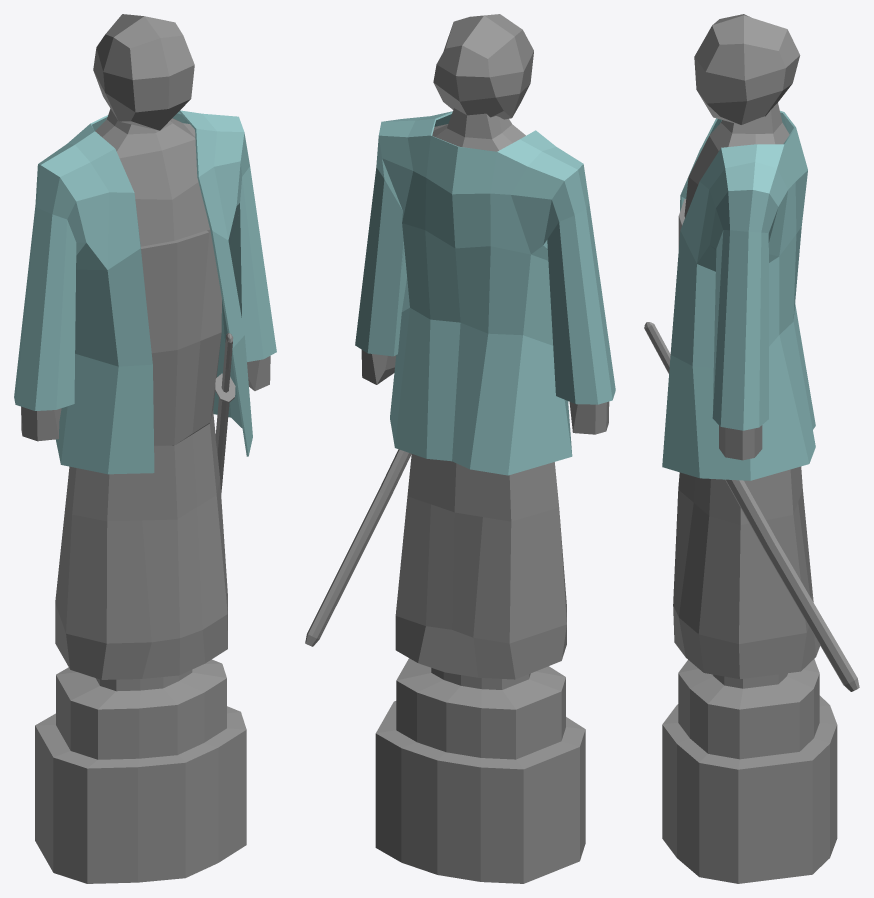
File: Statue.FBX
3 renders of one model, left to right at view 1: azimuth 30°, elevation 25°; view 2: azimuth 150°, elevation 25°; view 3: azimuth 270°, elevation 25°, orthographic.
Parts seen in each view (by area): view 1: Object001; view 2: Object001; view 3: Object001.
Boxes of the visible parts, left/top/right/bottom form: Object001: left=14, top=14, right=276, bottom=883; Object001: left=305, top=14, right=615, bottom=883; Object001: left=644, top=14, right=859, bottom=883.
Bounding box in the file's own units: 1.55 × 4.78 × 1.13.
